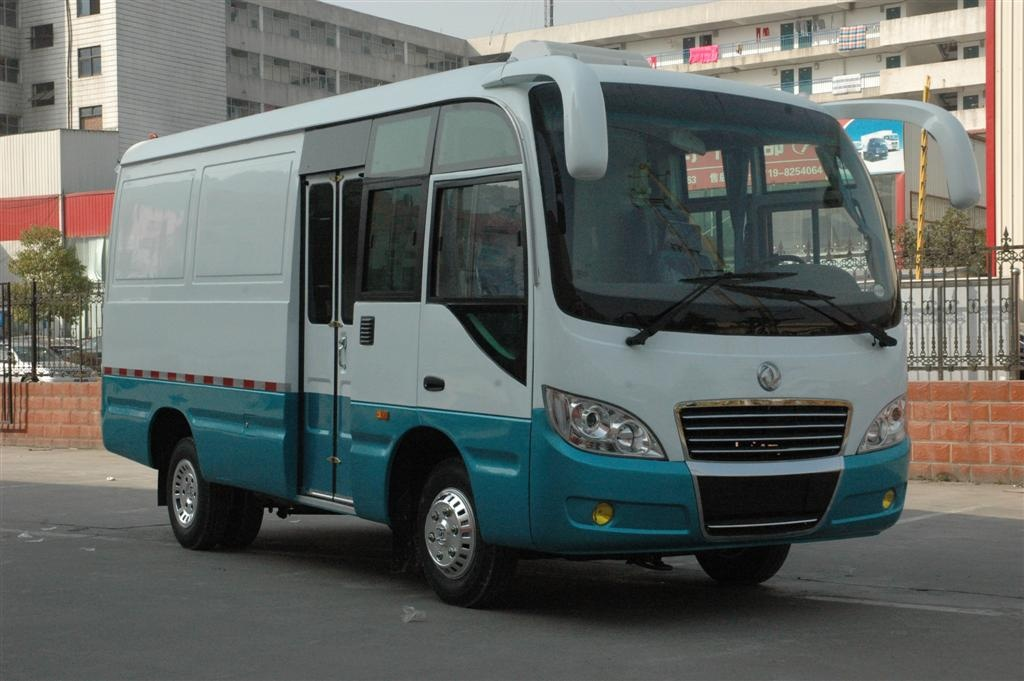bus: (71, 49, 929, 603)
